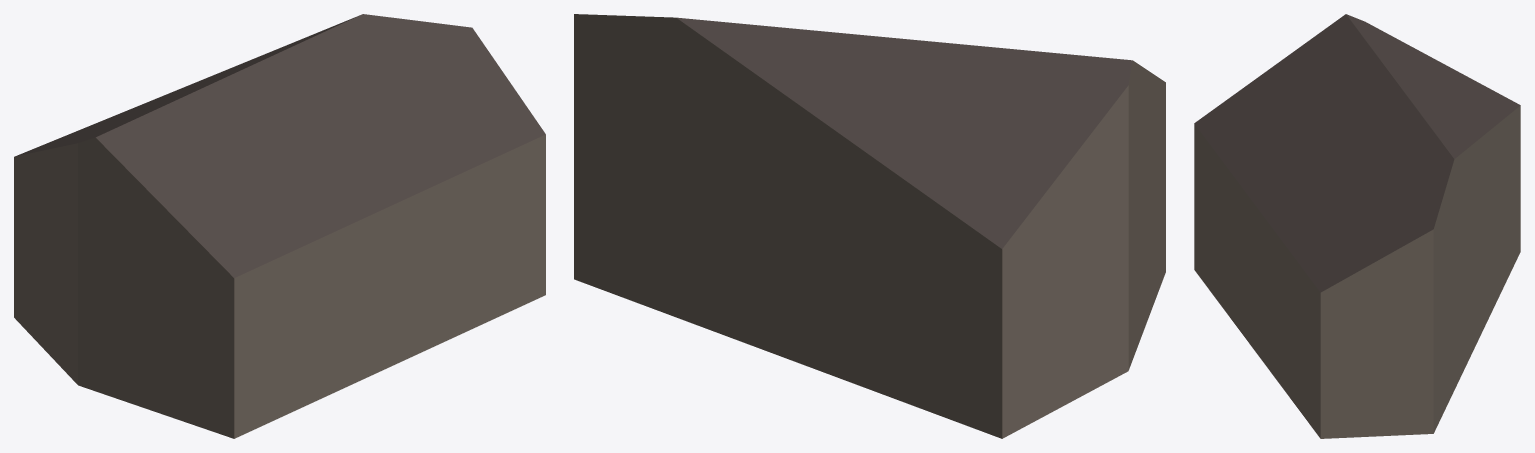
3 renders of one model, left to right at view 1: azimuth 30°, elevation 25°; view 2: azimuth 150°, elevation 25°; view 3: azimuth 270°, elevation 25°, orthographic. The views are drawn at different scales.
Visible parts, largest first — view 1: HP-w859082490; view 2: HP-w859082490; view 3: HP-w859082490.
Boxes of the visible parts, x1,y1,x2,y2 form: HP-w859082490: (14,14,545,438); HP-w859082490: (574,14,1165,438); HP-w859082490: (1194,14,1520,438).
Bounding box in the file's own units: 17.32 × 9.48 × 12.14.
